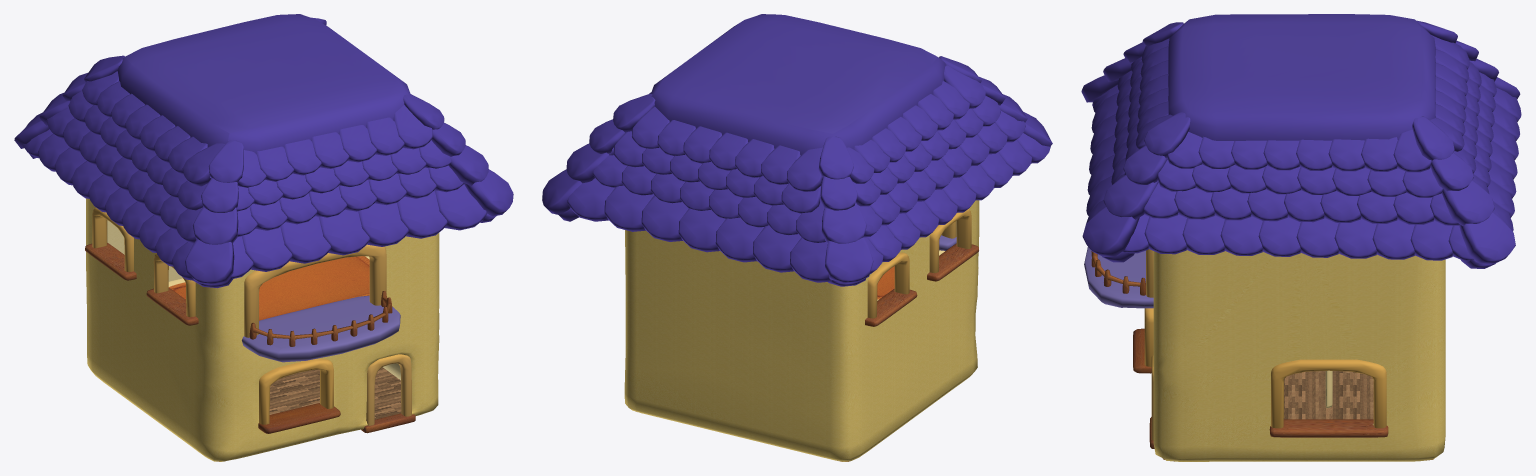
Rendered from House.glb.
3 renders of one model, left to right at view 1: azimuth 30°, elevation 25°; view 2: azimuth 150°, elevation 25°; view 3: azimuth 270°, elevation 25°, orthographic. The views are drawn at different scales.
Parts seen in each view (by area): view 1: CASA.003, Cube.051, Cube.061, Cube.017, Cube.034, Cube.029, Cube.068, Cube.065, Cube.018, Cube.028, Cube.067, Carpet_1.001 (+18 smaller); view 2: CASA.003, Cube.051, Cube.056, Cube.059, Cube.029, Cube.057, Cube.018, Cube.028, Cube.058, Cube.021, Cube.017, Cube.038 (+10 smaller); view 3: CASA.003, Cube.051, Cube.033, Cube.032, Cube.030, Cube.031, Cube.017, PisoCasa.001, Cube.056, Cube.059, Cube.061, Cube.034 (+18 smaller).
Part boxes in pixels (bbox=[...]): CASA.003: bbox=[86, 198, 439, 461]; Cube.051: bbox=[117, 14, 410, 153]; Cube.061: bbox=[231, 184, 486, 278]; Cube.017: bbox=[92, 207, 411, 425]; Cube.034: bbox=[238, 105, 432, 187]; Cube.029: bbox=[22, 129, 194, 280]; Cube.068: bbox=[242, 295, 400, 362]; Cube.065: bbox=[237, 165, 464, 236]; Cube.018: bbox=[82, 71, 224, 186]; Cube.028: bbox=[46, 108, 202, 243]; Cube.067: bbox=[236, 140, 451, 211]; Carpet_1.001: bbox=[169, 256, 369, 320]; CASA.003: bbox=[624, 200, 979, 461]; Cube.051: bbox=[651, 14, 945, 154]; Cube.056: bbox=[567, 178, 832, 282]; Cube.059: bbox=[632, 106, 822, 191]; Cube.029: bbox=[864, 133, 1050, 273]; Cube.057: bbox=[592, 155, 825, 242]; Cube.018: bbox=[847, 65, 985, 183]; Cube.028: bbox=[858, 111, 1025, 237]; Cube.058: bbox=[614, 131, 820, 213]; Cube.021: bbox=[853, 95, 1000, 206]; Cube.017: bbox=[867, 209, 971, 318]; Cube.038: bbox=[825, 237, 873, 283]; CASA.003: bbox=[1153, 250, 1445, 461]; Cube.051: bbox=[1168, 14, 1435, 140]; Cube.033: bbox=[1123, 214, 1473, 261]; Cube.032: bbox=[1144, 183, 1459, 225]; Cube.030: bbox=[1167, 129, 1431, 172]; Cube.031: bbox=[1157, 160, 1442, 197]; Cube.017: bbox=[1144, 249, 1386, 440]; PisoCasa.001: bbox=[1162, 371, 1434, 461]; Cube.056: bbox=[1487, 87, 1521, 231]; Cube.059: bbox=[1430, 35, 1469, 151]; Cube.061: bbox=[1086, 85, 1119, 223]; Cube.034: bbox=[1136, 38, 1172, 149].
Size of what is drawn, in the model's own units: 21.33 by 19.67 by 22.5.
Materials: 9 (8 with a texture image).
